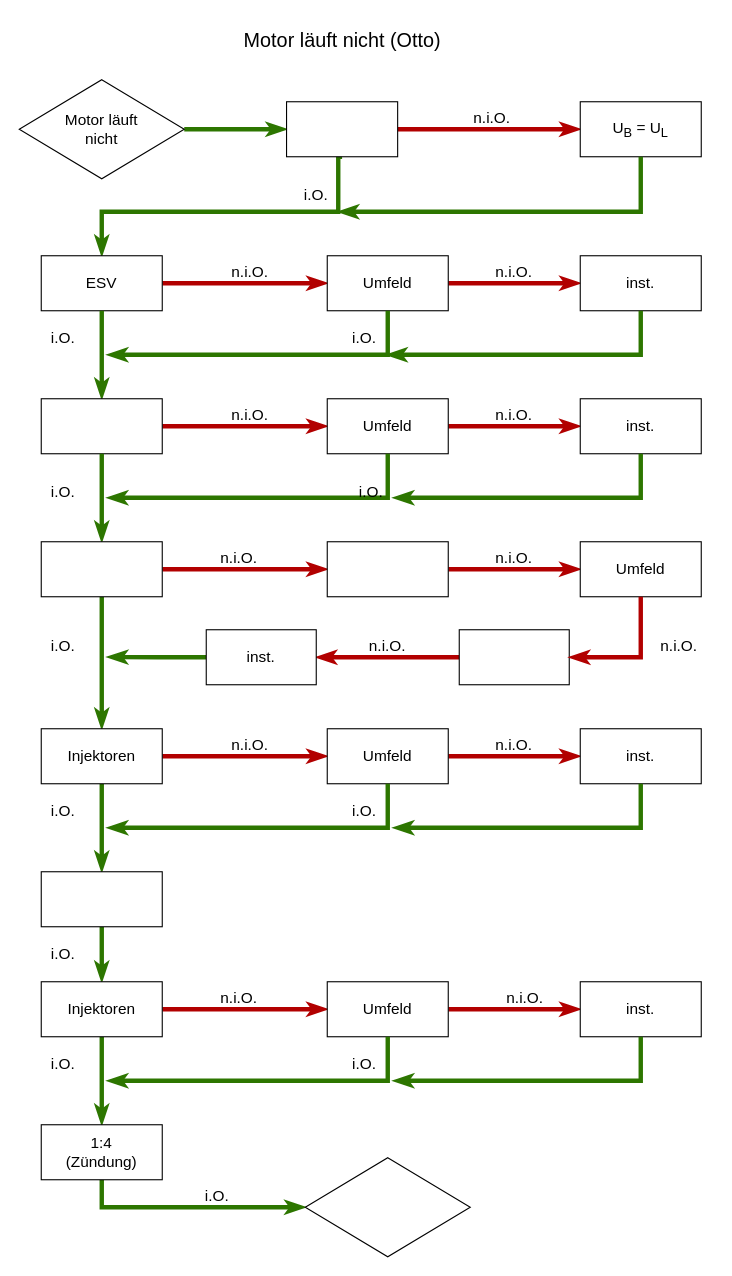
Some shapes in this 732 by 1276 pixel diagram are drawn without their labels. Each missing label, with the centre of its shape:
1:4 (Injektor): pixel 101 899
Drehzahl: pixel 101 426
Kraftstoff: pixel 101 569
Kraftstoff- pumpenrelais: pixel 513 657
Kraftstoffpumpe: pixel 387 569
Motor läuft: pixel 387 1207
U B >12,60V: pixel 341 129
